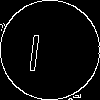I: (25, 25, 45, 72)
